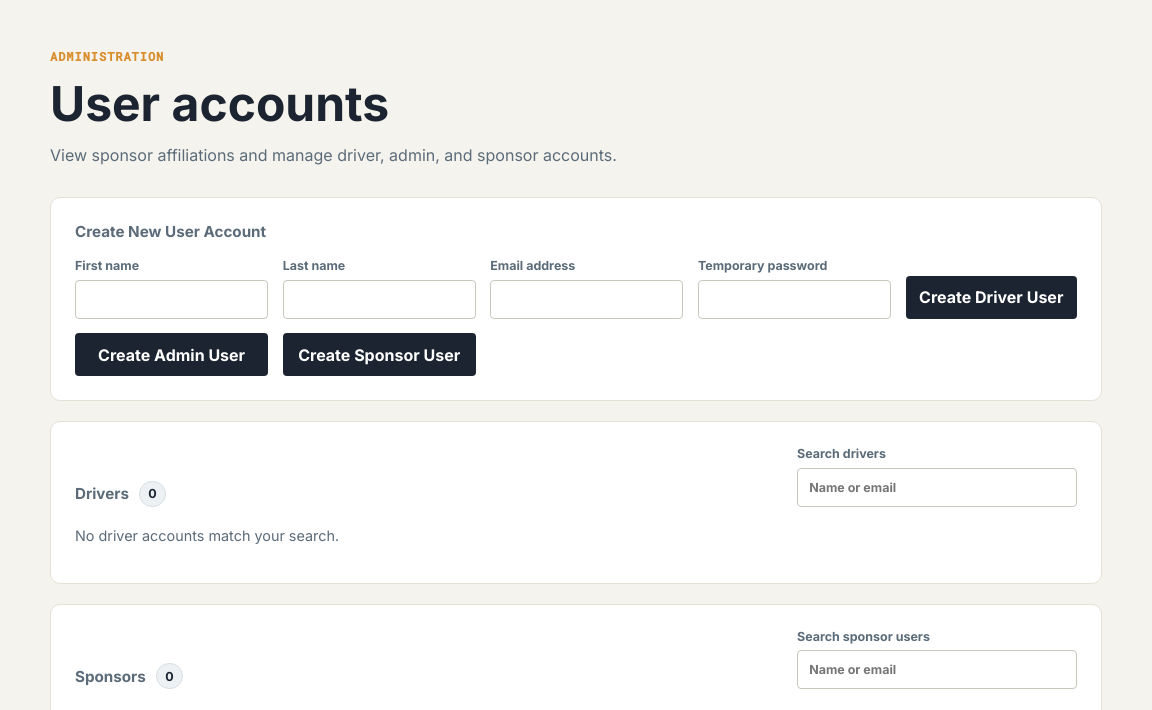
Test: creates a Driver using the shared fields
Check: the text "No driver accounts match your search." is shown, box top-left (75, 527), bottom-right (339, 544)
Type "New" into the field labelled "First name".
click(172, 299); type("New")  # box top-left (75, 280), bottom-right (268, 319)
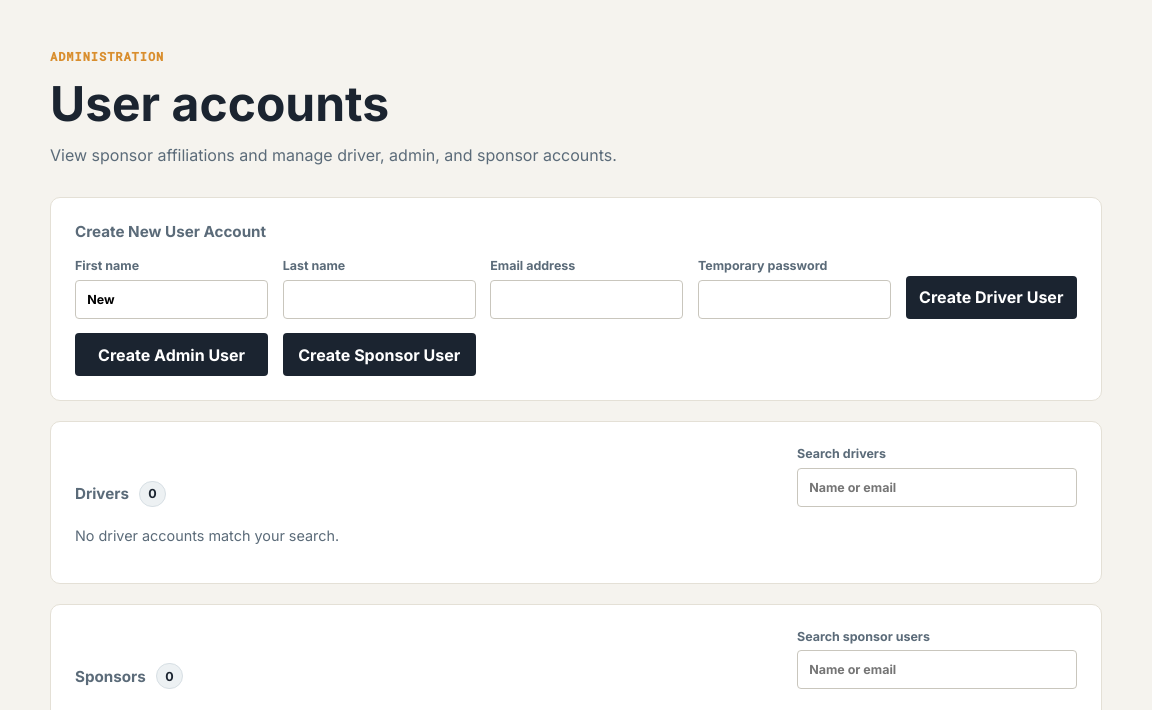
Type "User" into the field labelled "Last name".
click(379, 299); type("User")  # box top-left (283, 280), bottom-right (476, 319)
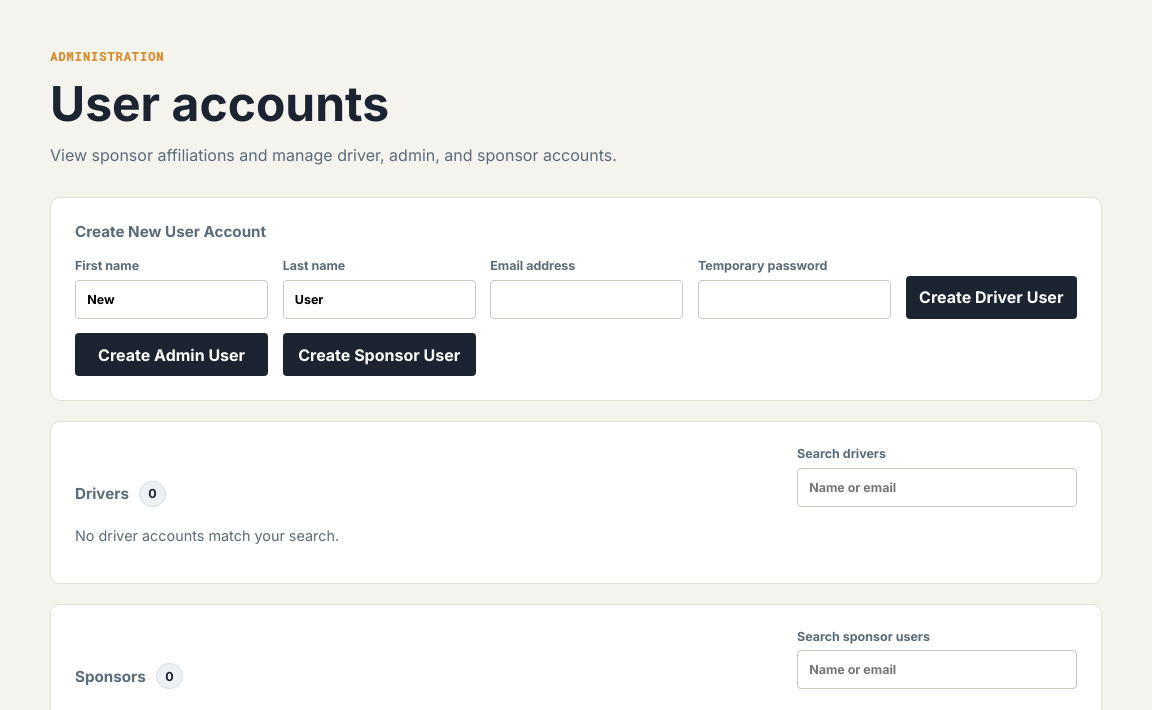
Type "new@example.com" into the field labelled "Email address".
click(587, 299); type("new@example.com")  # box top-left (490, 280), bottom-right (684, 319)
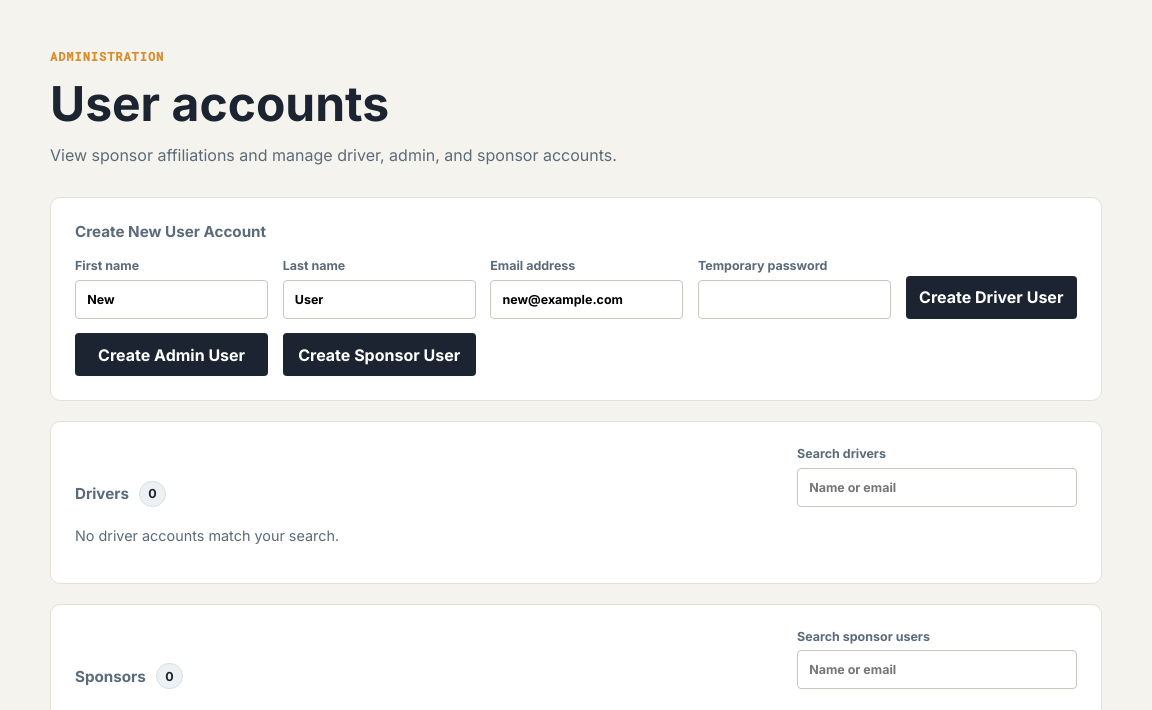
Type "test-password" into the password field labelled "Temporary password".
click(794, 299); type("test-password")  # box top-left (698, 280), bottom-right (891, 319)
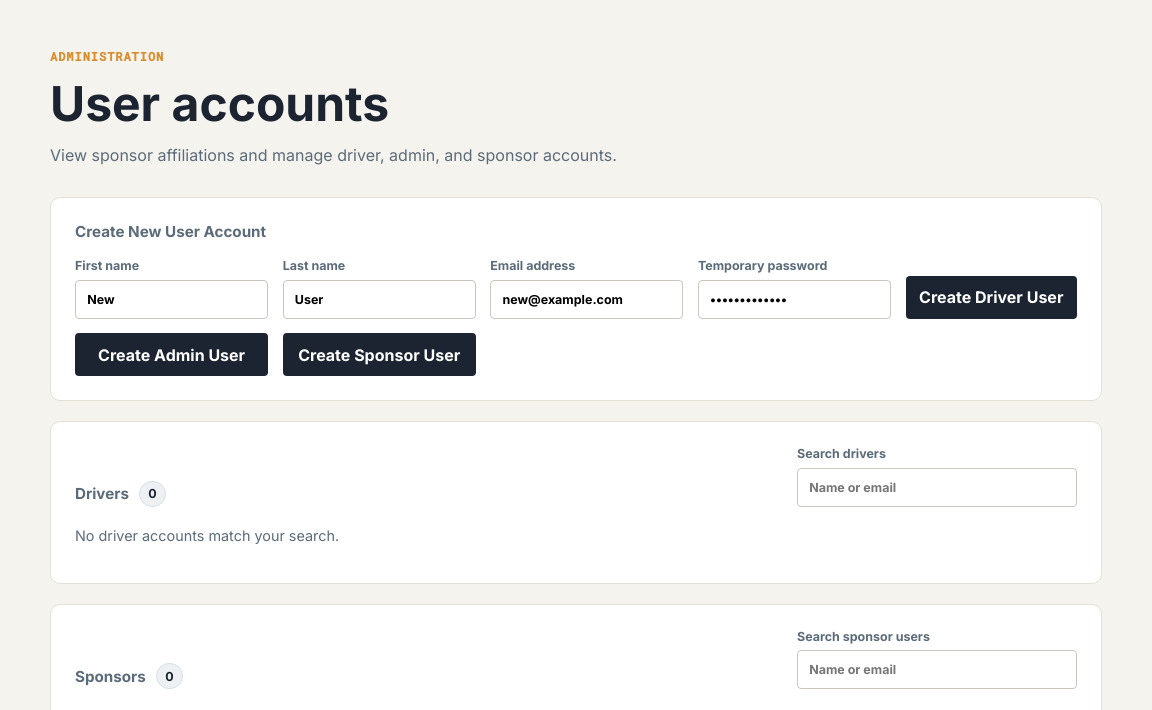
Click the button "Create Driver User".
click(991, 297)  # box top-left (906, 276), bottom-right (1077, 319)
(page scrolled)
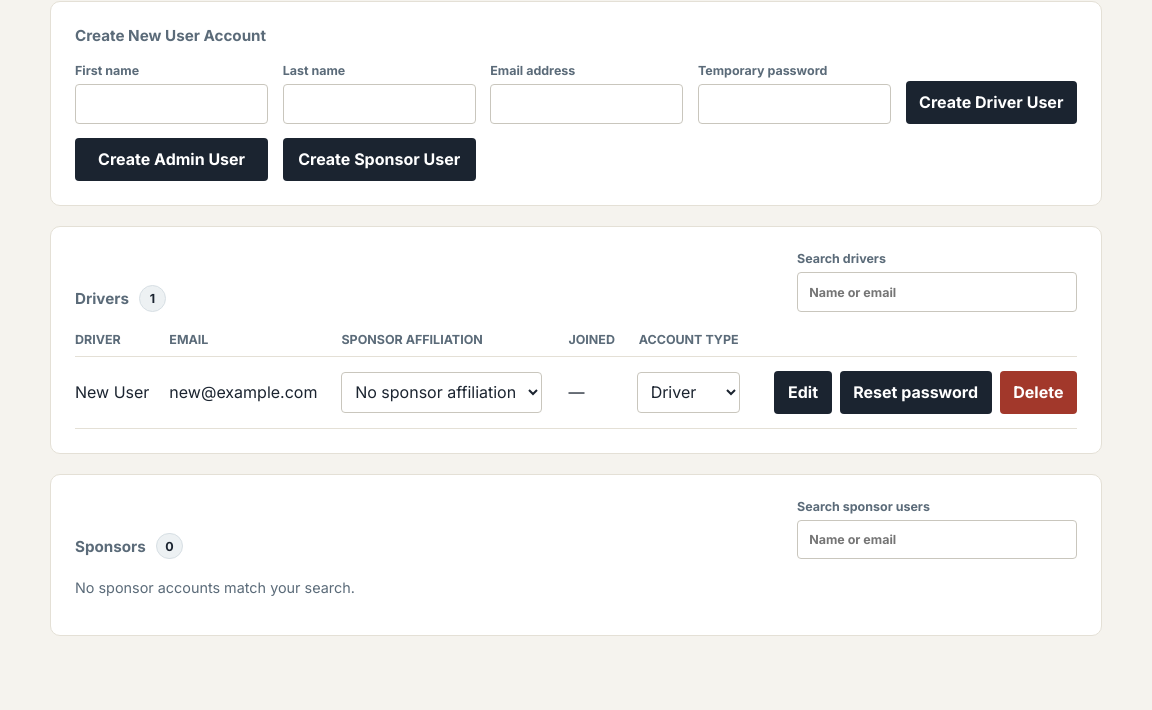
Check: the text "0" is shown, box top-left (156, 533), bottom-right (183, 559)
Check: the text "1" is shown, box top-left (139, 285), bottom-right (166, 312)
